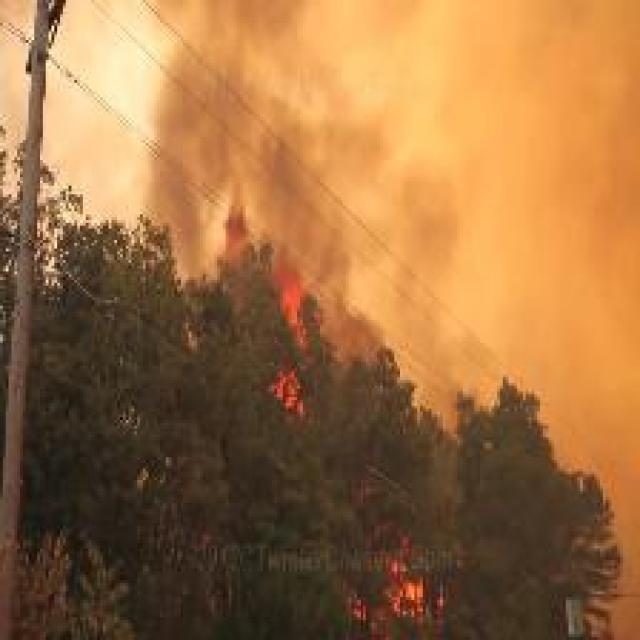Fire: (267, 244, 319, 350), (270, 364, 310, 419)
Smoke: (154, 2, 640, 229)
